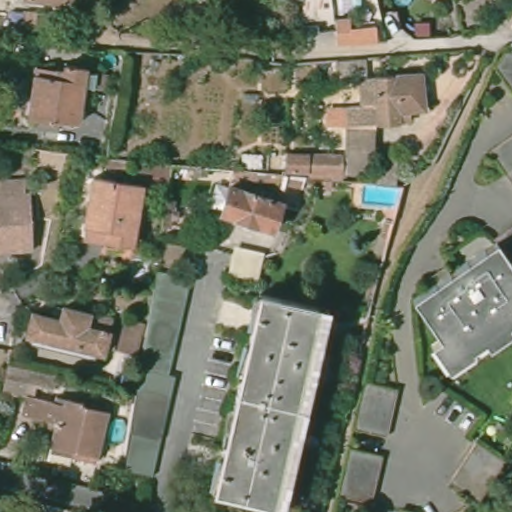pool: (359, 177, 404, 211), (104, 412, 130, 452), (98, 52, 123, 71)
